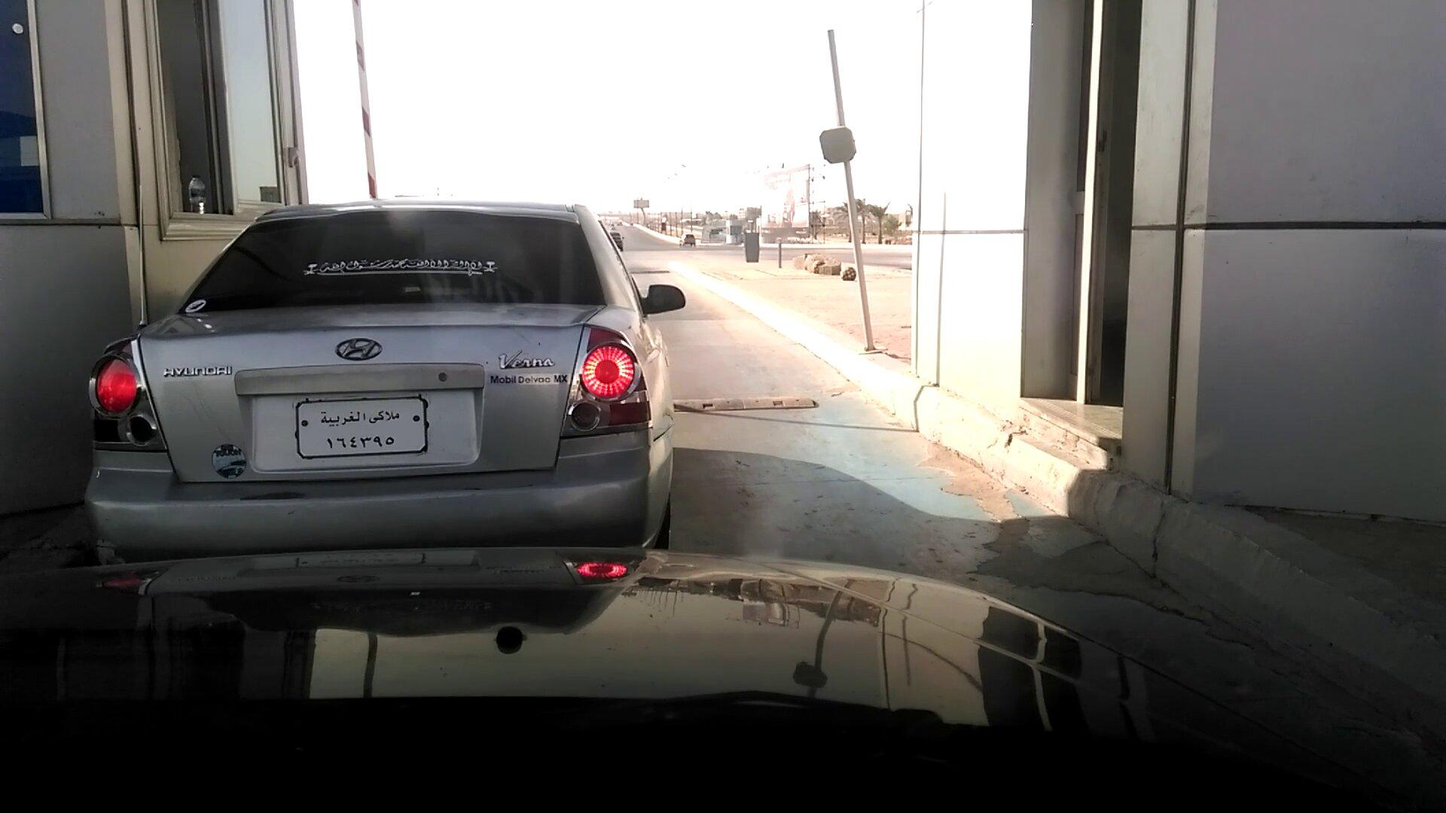Bump: (668, 386, 815, 414)
